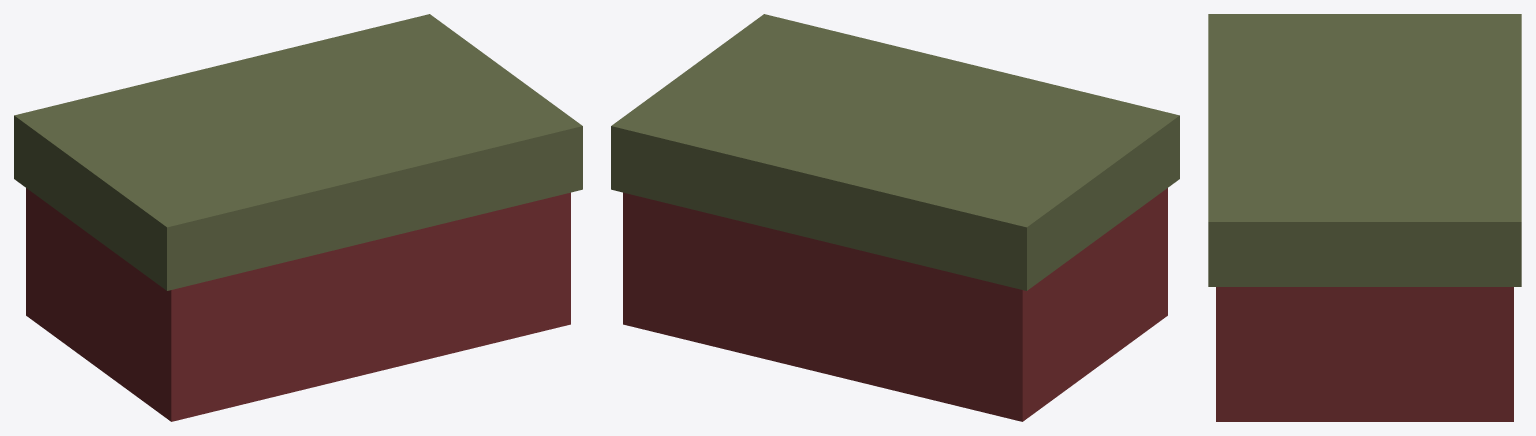
The model's file is SM_Prop_ShoeBox_04.fbx.
3 renders of one model, left to right at view 1: azimuth 30°, elevation 25°; view 2: azimuth 150°, elevation 25°; view 3: azimuth 270°, elevation 25°, orthographic. The views are drawn at different scales.
Parts seen in each view (by area): view 1: SM_Prop_ShoeBox_04; view 2: SM_Prop_ShoeBox_04; view 3: SM_Prop_ShoeBox_04.
Boxes of the visible parts, <box> form: SM_Prop_ShoeBox_04: <box>14,14,582,421</box>; SM_Prop_ShoeBox_04: <box>611,14,1179,421</box>; SM_Prop_ShoeBox_04: <box>1208,14,1521,421</box>.
Bounding box in the file's own units: 28.93 × 13.25 × 18.45.
